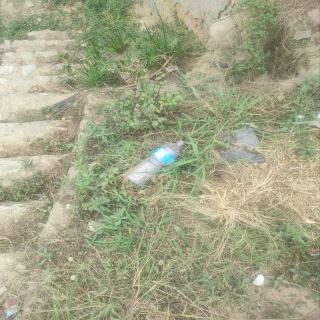Plastic-bottle: (121, 137, 188, 190)
